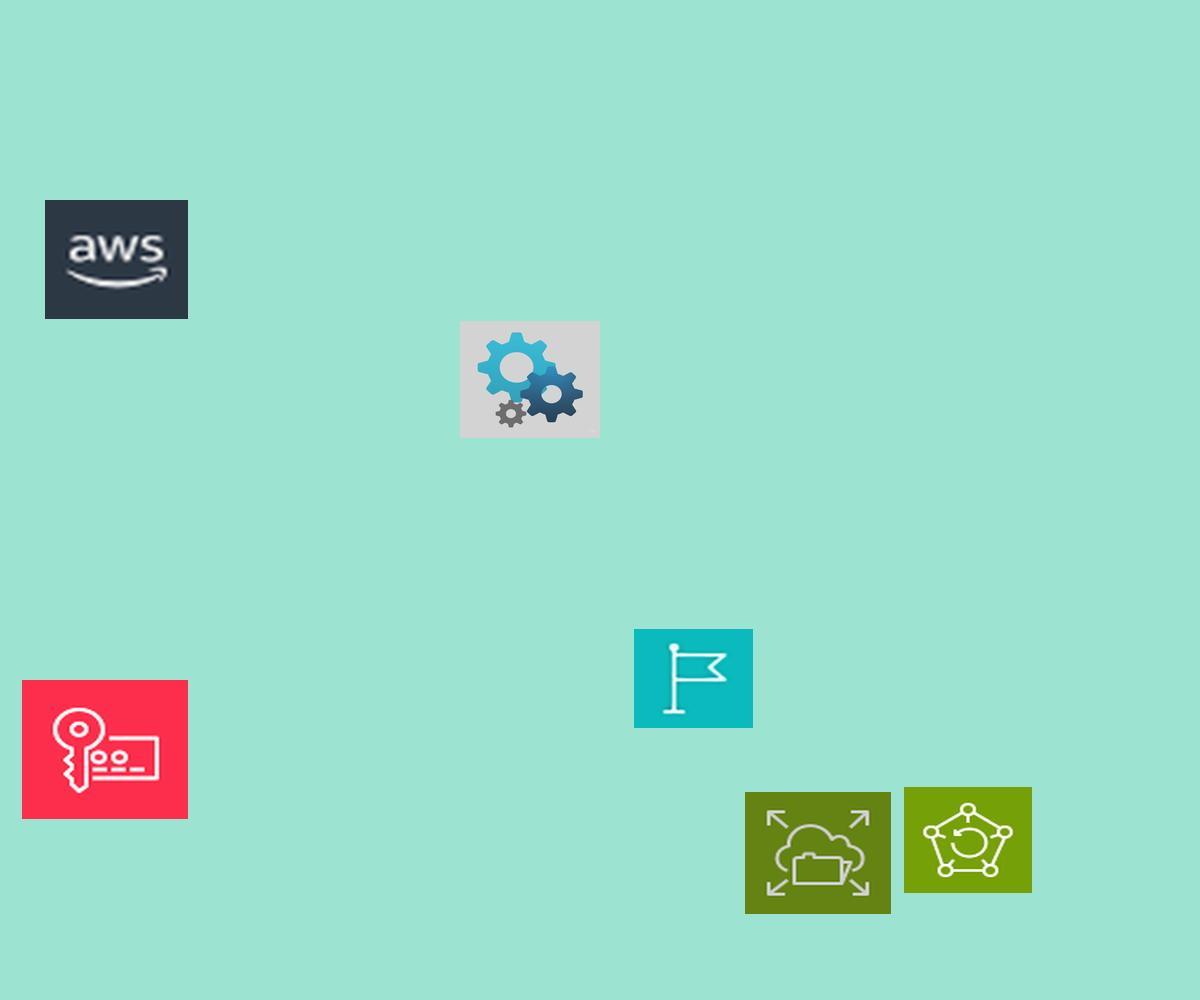AWS-Backup: (904, 787, 1032, 893)
AWS-Cloud-logo: (45, 200, 188, 319)
AWS-EFS: (745, 792, 891, 914)
AWS-Key-Management-Service: (22, 680, 188, 819)
AWS-Region: (634, 629, 753, 728)
Azure_api: (460, 321, 600, 438)
